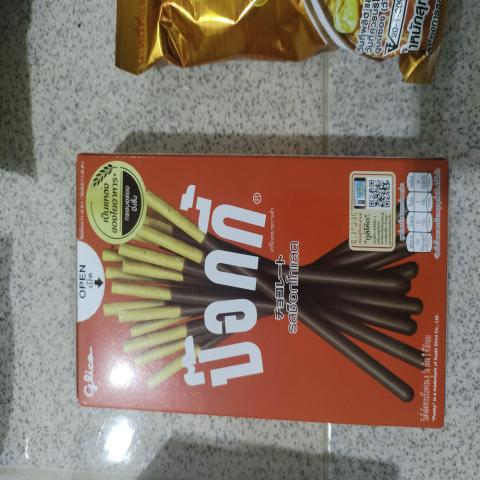pokki: (73, 143, 455, 434)
